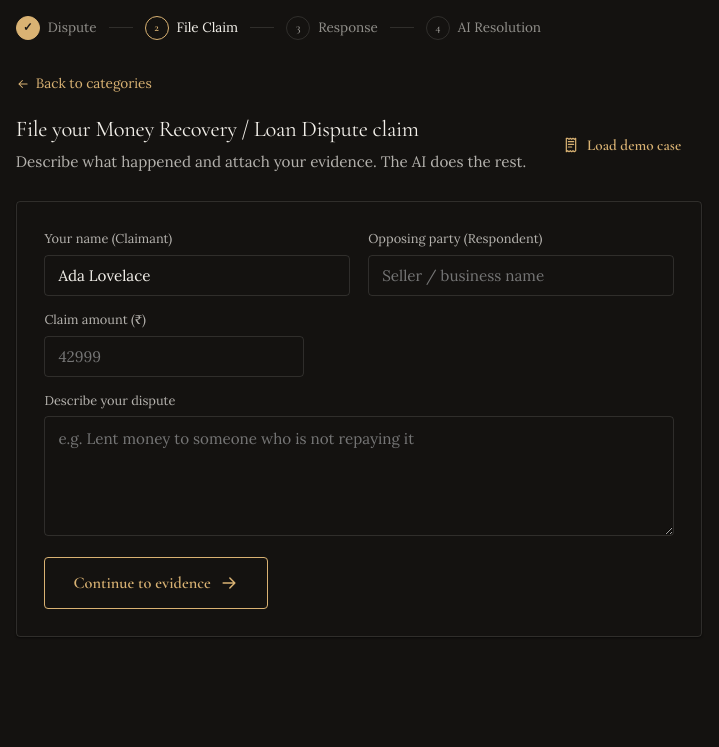
Test: NewCase › category-mismatch suggestion › shows a suggestion banner after the debounce when the description sounds like another category
This screenshot has width=719, height=747.
Type "Suresh Traders issued a cheque for Rs 2,50,000 to settle a debt and it bounced due to insufficient funds." into the text box labelled "Describe your dispute" at [359, 476], box [44,416,674,536]
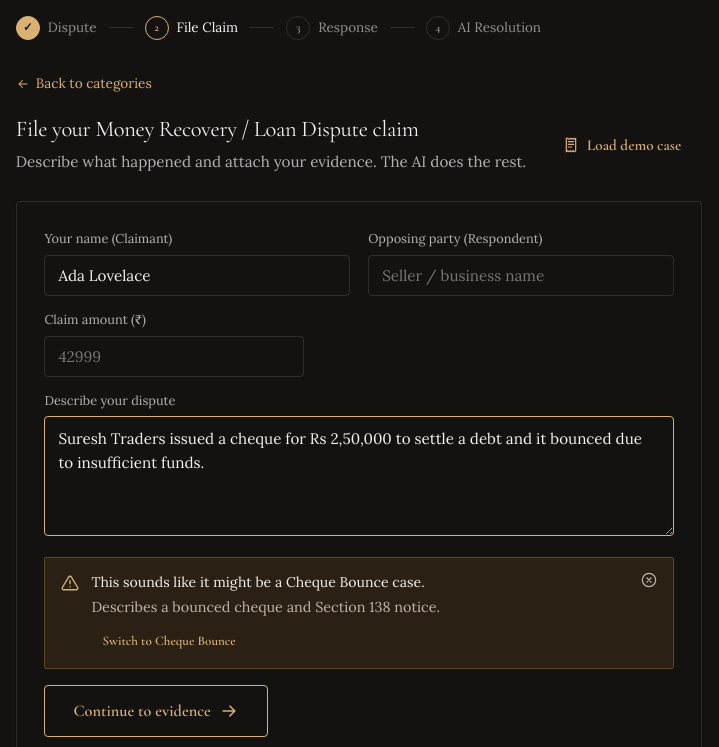
Now the text "This sounds like it might be a Cheque Bounce case." is shown, box [91,572,425,590]
Now the text "Describes a bounced cheque and Section 138 notice." is shown, box [91,598,440,616]
